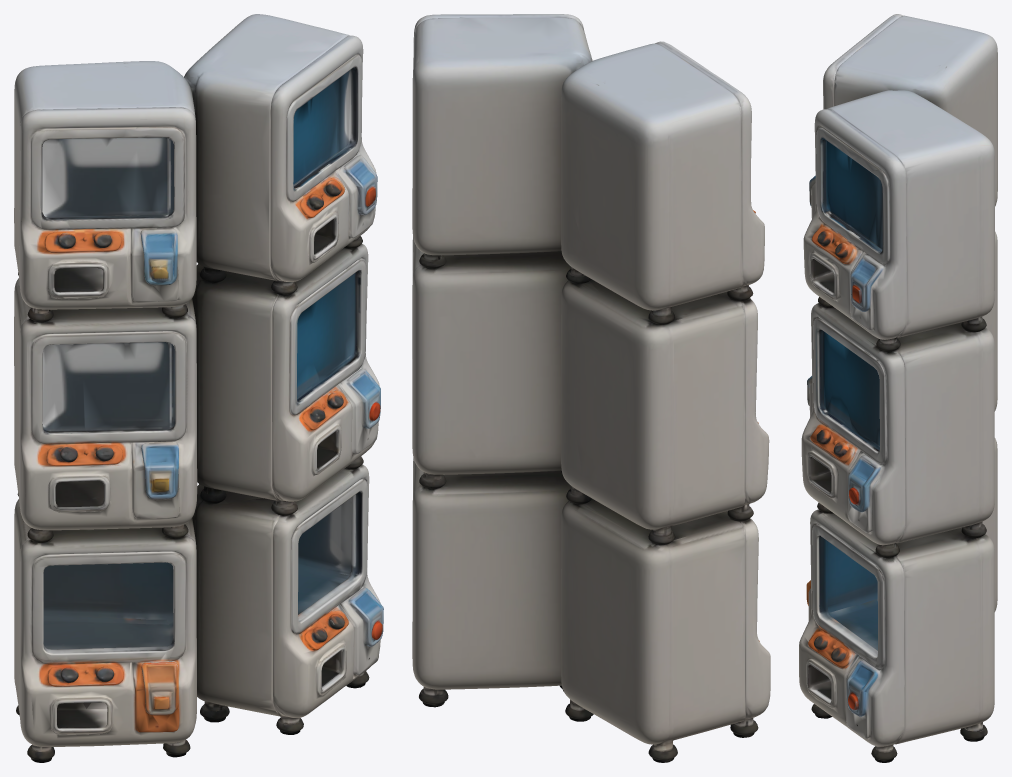
The model's file is gachapon-2.glb.
The picture shows the model from 3 angles, left to right: view 1: azimuth 30°, elevation 25°; view 2: azimuth 150°, elevation 25°; view 3: azimuth 270°, elevation 25°; orthographic projection. The views are drawn at different scales.
Visible parts, largest first — view 1: node_0; view 2: node_0; view 3: node_0.
Boxes of the visible parts, bbox=[...] form: node_0: bbox=[14, 14, 383, 762]; node_0: bbox=[412, 14, 770, 762]; node_0: bbox=[799, 14, 997, 762].
Size of the model in its own units: 0.6091 by 1.06 by 0.3166.
1 material, 1 textured.
